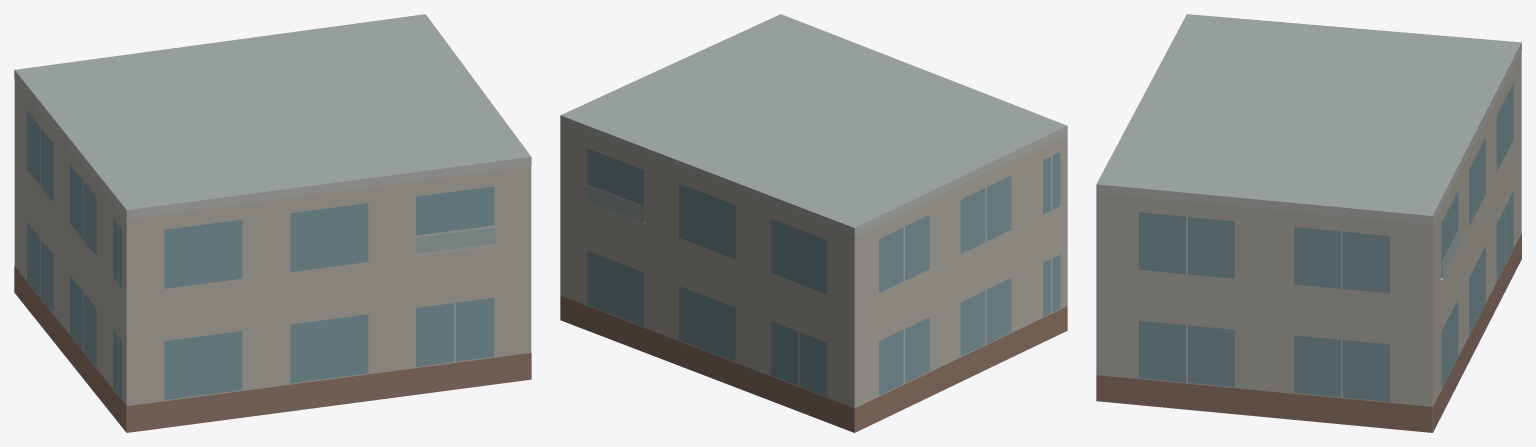
File: survey-upis-32653571.glb
3 views of the same model, side by side, from view 1: azimuth 30°, elevation 25°; view 2: azimuth 150°, elevation 25°; view 3: azimuth 270°, elevation 25° (orthographic). The views are drawn at different scales.
Parts seen in each view (by area): view 1: survey-upis-32653571.tmp; view 2: survey-upis-32653571.tmp; view 3: survey-upis-32653571.tmp.
Part boxes in pixels (box(x1,y1,x2,y2)): survey-upis-32653571.tmp: box(14, 14, 531, 432); survey-upis-32653571.tmp: box(560, 14, 1067, 432); survey-upis-32653571.tmp: box(1096, 14, 1521, 432).
Size of the model in its own units: 12.2 by 6.1 by 10.86.
